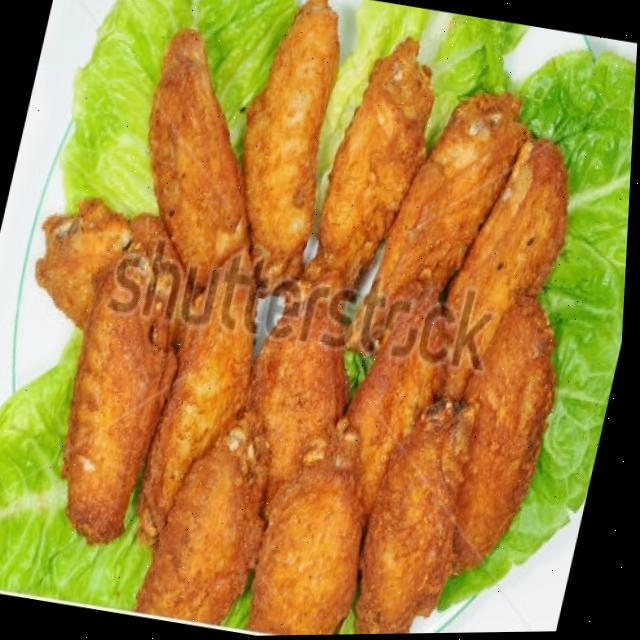鸡肉料理 含炸鸡: (15, 0, 628, 617)
